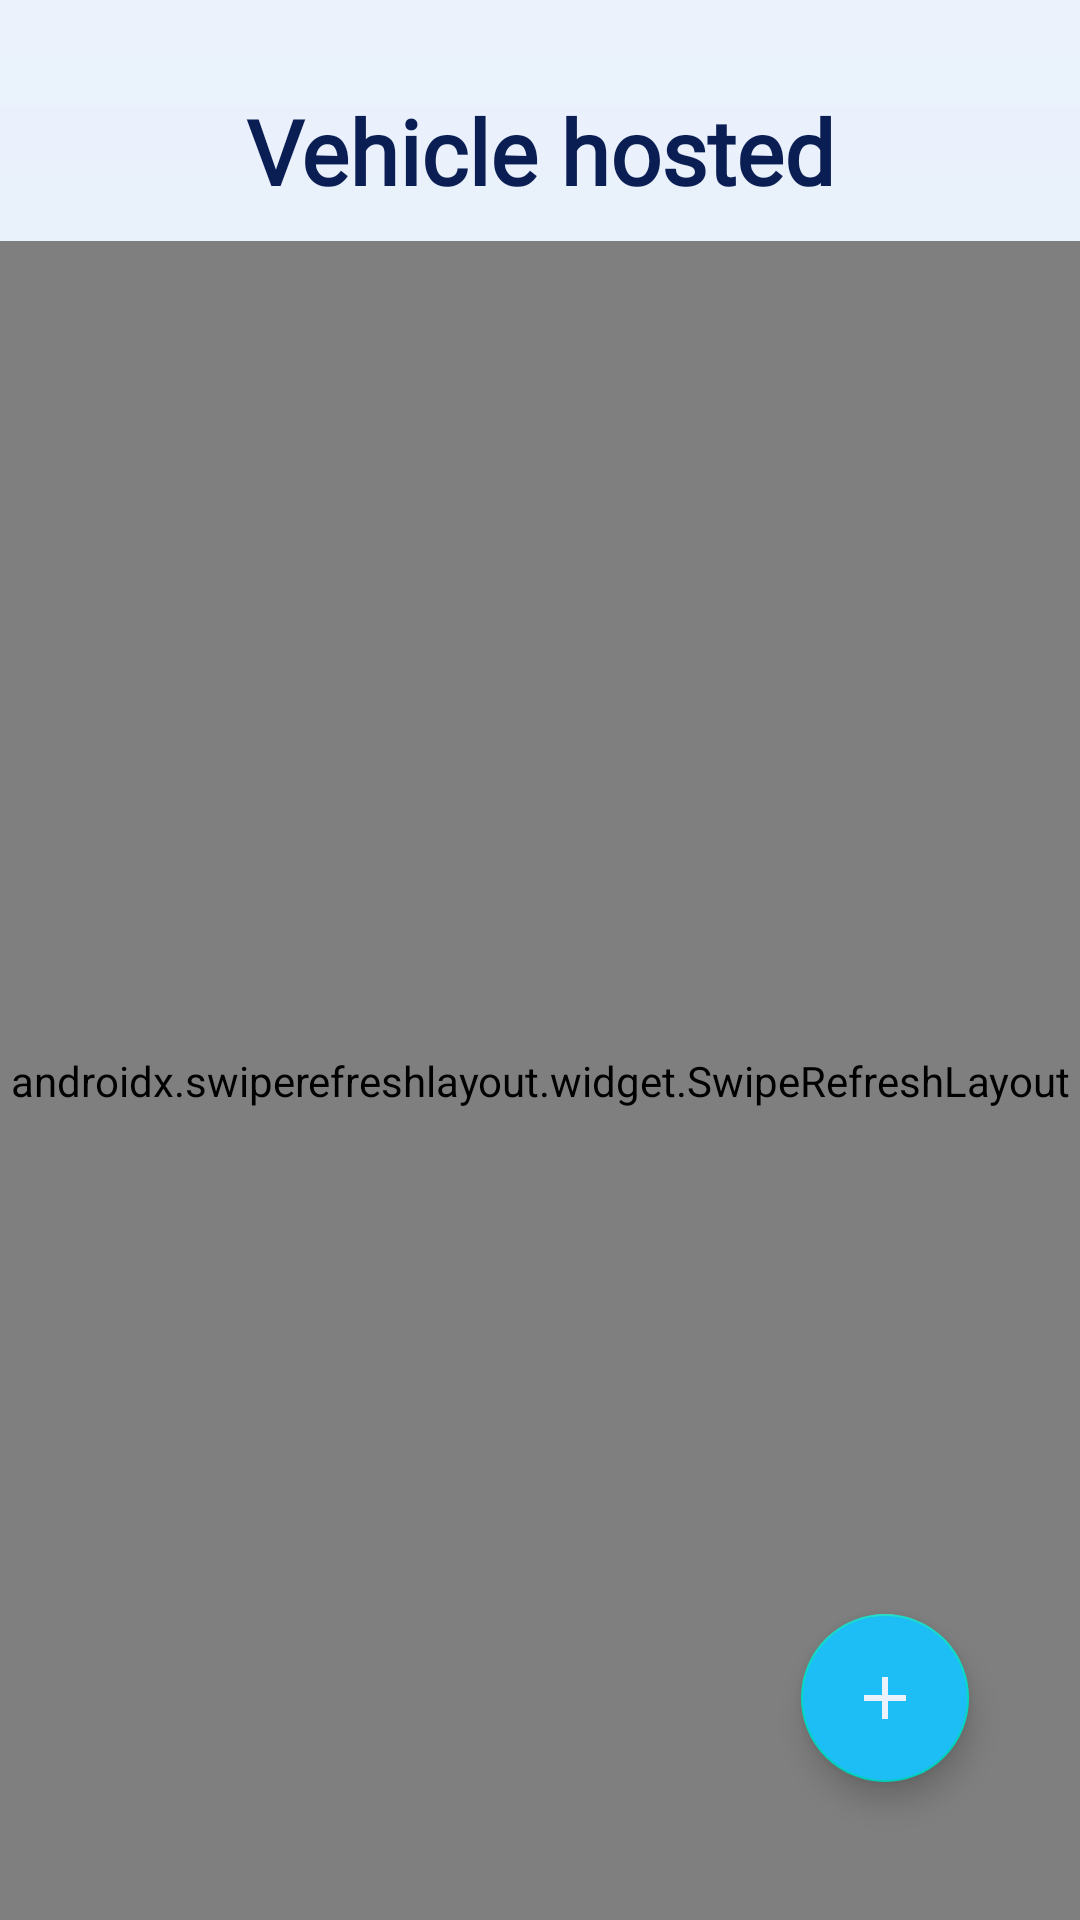

Locate icon controls on the screen. Image size 1080 x 1920, boxes as [x1,y1,x2,y2].
plus sign: [801,1614,969,1782]
